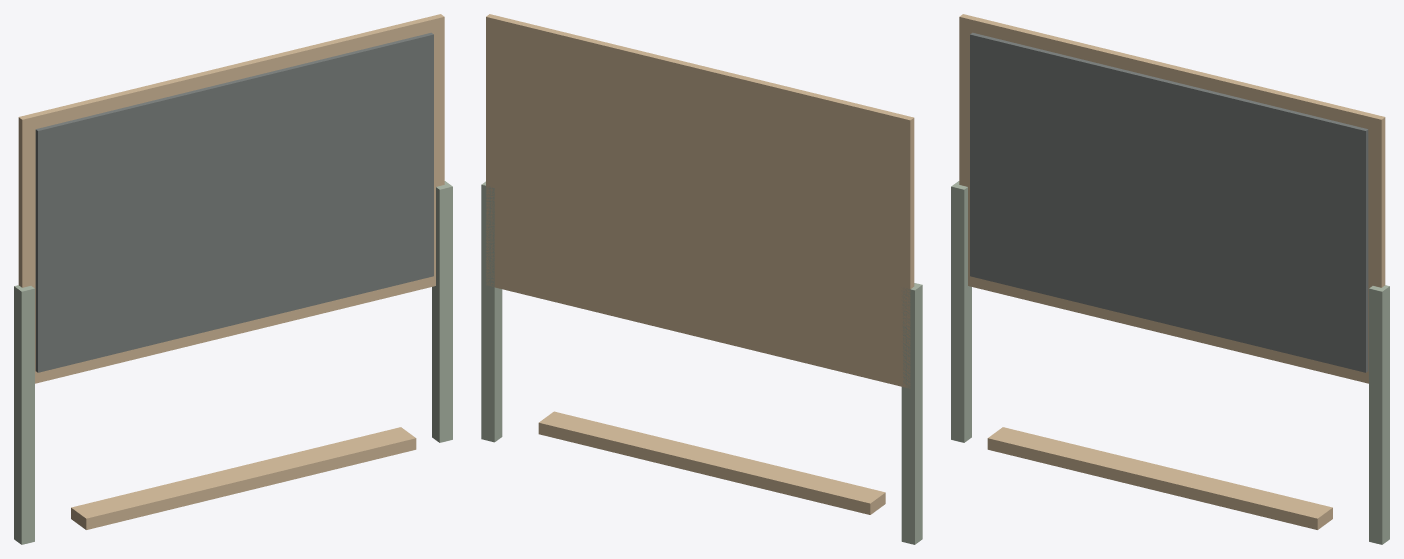
File: blackboard.glb
The picture shows the model from 3 angles, left to right: view 1: azimuth 30°, elevation 25°; view 2: azimuth 150°, elevation 25°; view 3: azimuth 330°, elevation 25°; orthographic projection.
Parts seen in each view (by area): view 1: root; view 2: root; view 3: root.
Part boxes in pixels (x1=…): root: x1=14, y1=14, x2=452, y2=544; root: x1=481, y1=14, x2=922, y2=544; root: x1=951, y1=14, x2=1389, y2=544.
Bounding box in the file's own units: 1.96 × 1.83 × 0.17.
